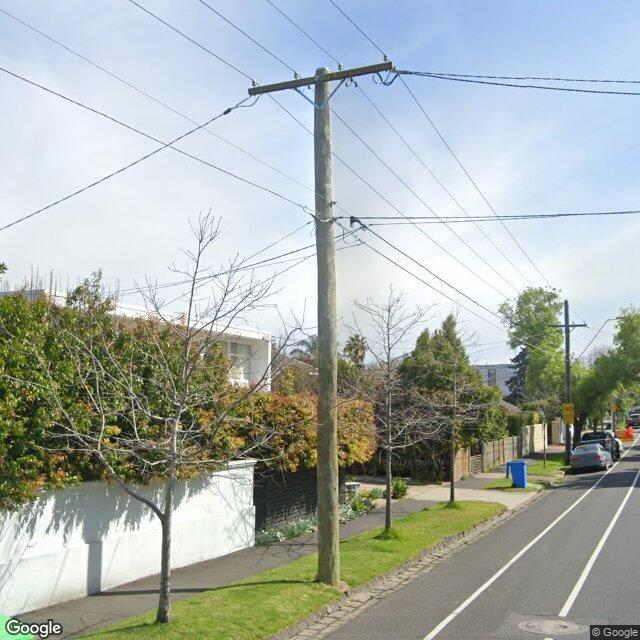crossarm: (249, 59, 396, 98), (548, 323, 588, 329)
streetlight: (569, 315, 629, 371)
timber-pole: (315, 67, 339, 589), (563, 298, 572, 469)
